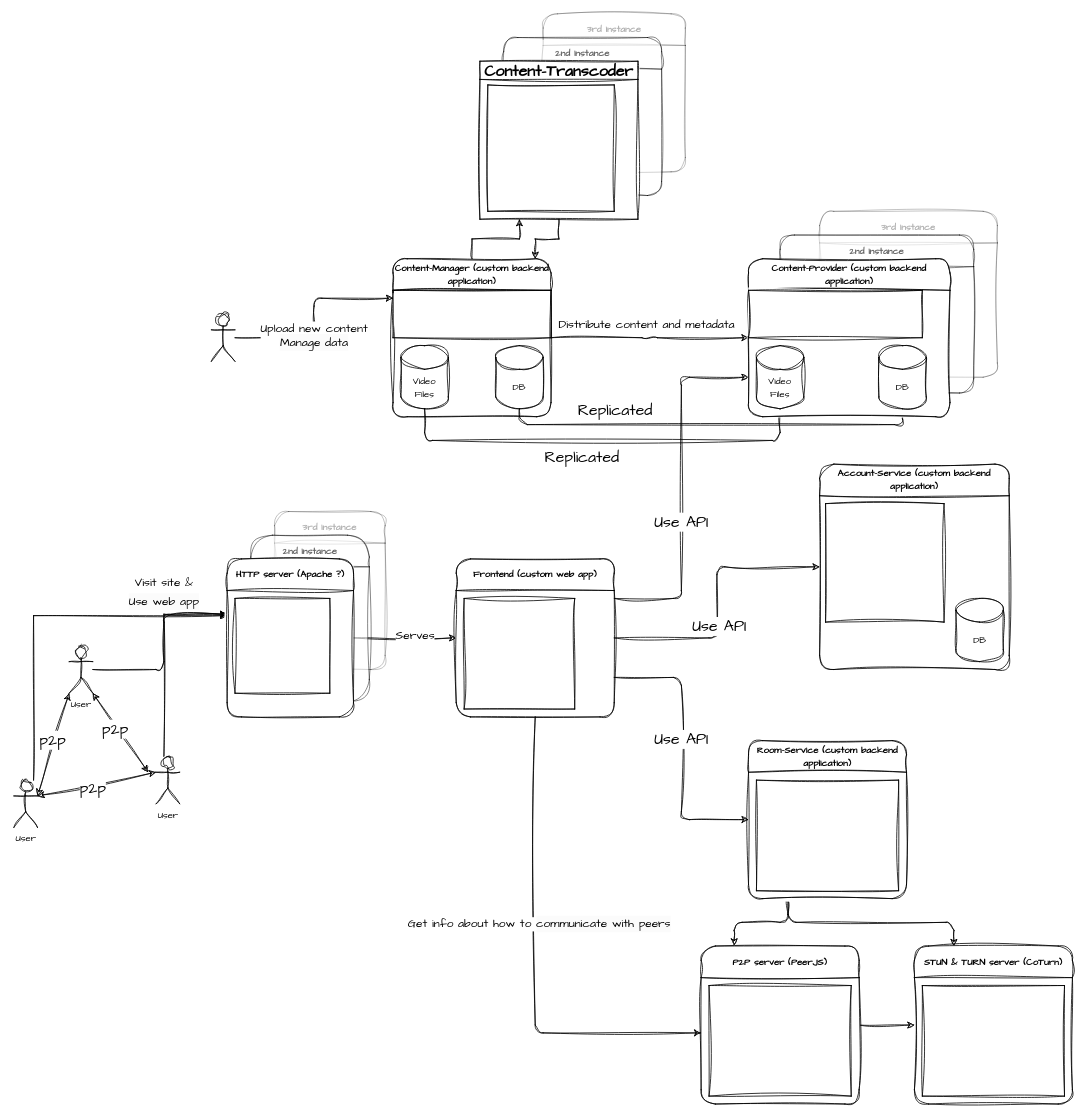
This 1086x1118 diagram has some shape labels left out. The centre of each missing label's shape, as x and y in pixels:
"Account info Login info Minimal social networking" belongs at (x=884, y=562).
"Admin" belongs at (x=223, y=337).
"Connect peers to each other" belongs at (x=779, y=1040).
"Helps with connectivity from behind NAT" belongs at (x=993, y=1040).
"Manage content" belongs at (x=471, y=314).
"Serve content to users" belongs at (x=835, y=314).
"Serves frontend web app" belongs at (x=282, y=645).
"Signup Login Find content View content" belongs at (x=519, y=653).
"Transcode & resize newly uploaded content" belongs at (x=550, y=147).
"Who is in which room What is being watched in room" belongs at (x=827, y=835).
